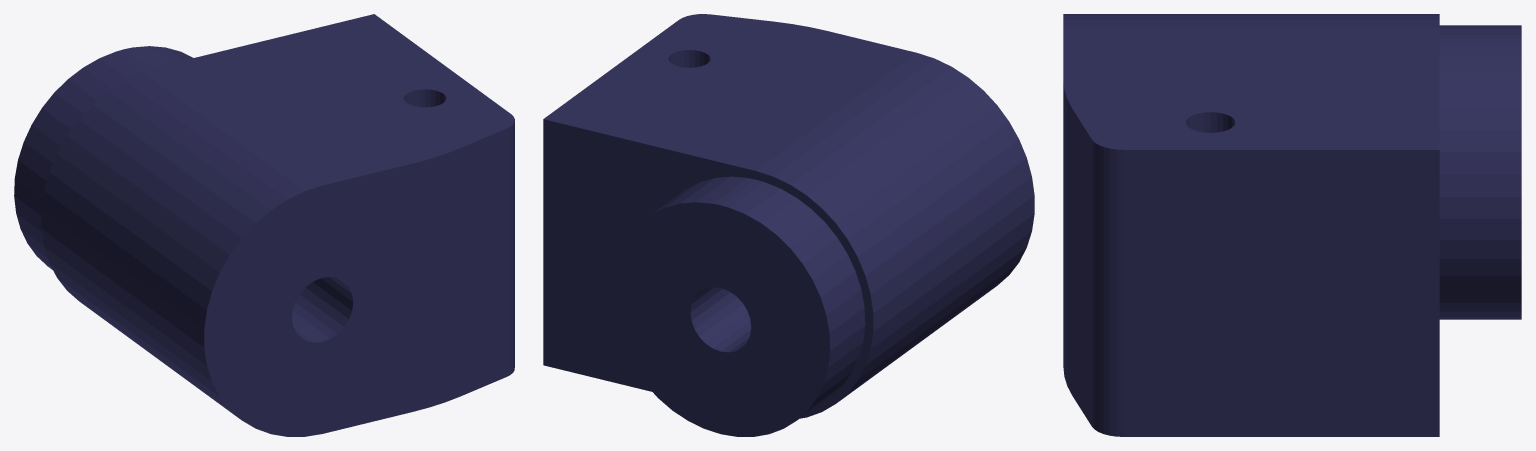
3 renders of one model, left to right at view 1: azimuth 30°, elevation 25°; view 2: azimuth 150°, elevation 25°; view 3: azimuth 270°, elevation 25°, orthographic. The views are drawn at different scales.
Parts seen in each view (by area): view 1: link_0; view 2: link_0; view 3: link_0.
Boxes of the visible parts, x1=… form: link_0: x1=14, y1=14, x2=514, y2=436; link_0: x1=543, y1=14, x2=1034, y2=436; link_0: x1=1063, y1=14, x2=1521, y2=436.
Size of the model in its own units: 0.0431 by 0.0444 by 0.0307.
